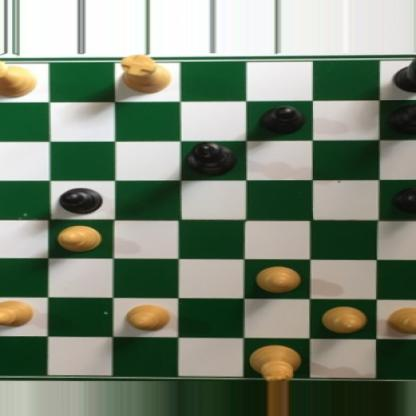black-bishop: (381, 99, 416, 134)
black-king: (182, 139, 239, 177)
black-knight: (392, 53, 416, 95)
black-pawn: (255, 105, 305, 135), (56, 186, 103, 215), (391, 184, 416, 215)
white-king: (246, 342, 304, 382)
white-pawn: (122, 301, 174, 333), (251, 265, 304, 295), (54, 223, 104, 254), (316, 305, 369, 334), (0, 299, 35, 326), (385, 307, 416, 336)
white-queen: (0, 53, 37, 97)
white-rook: (112, 54, 170, 96)
